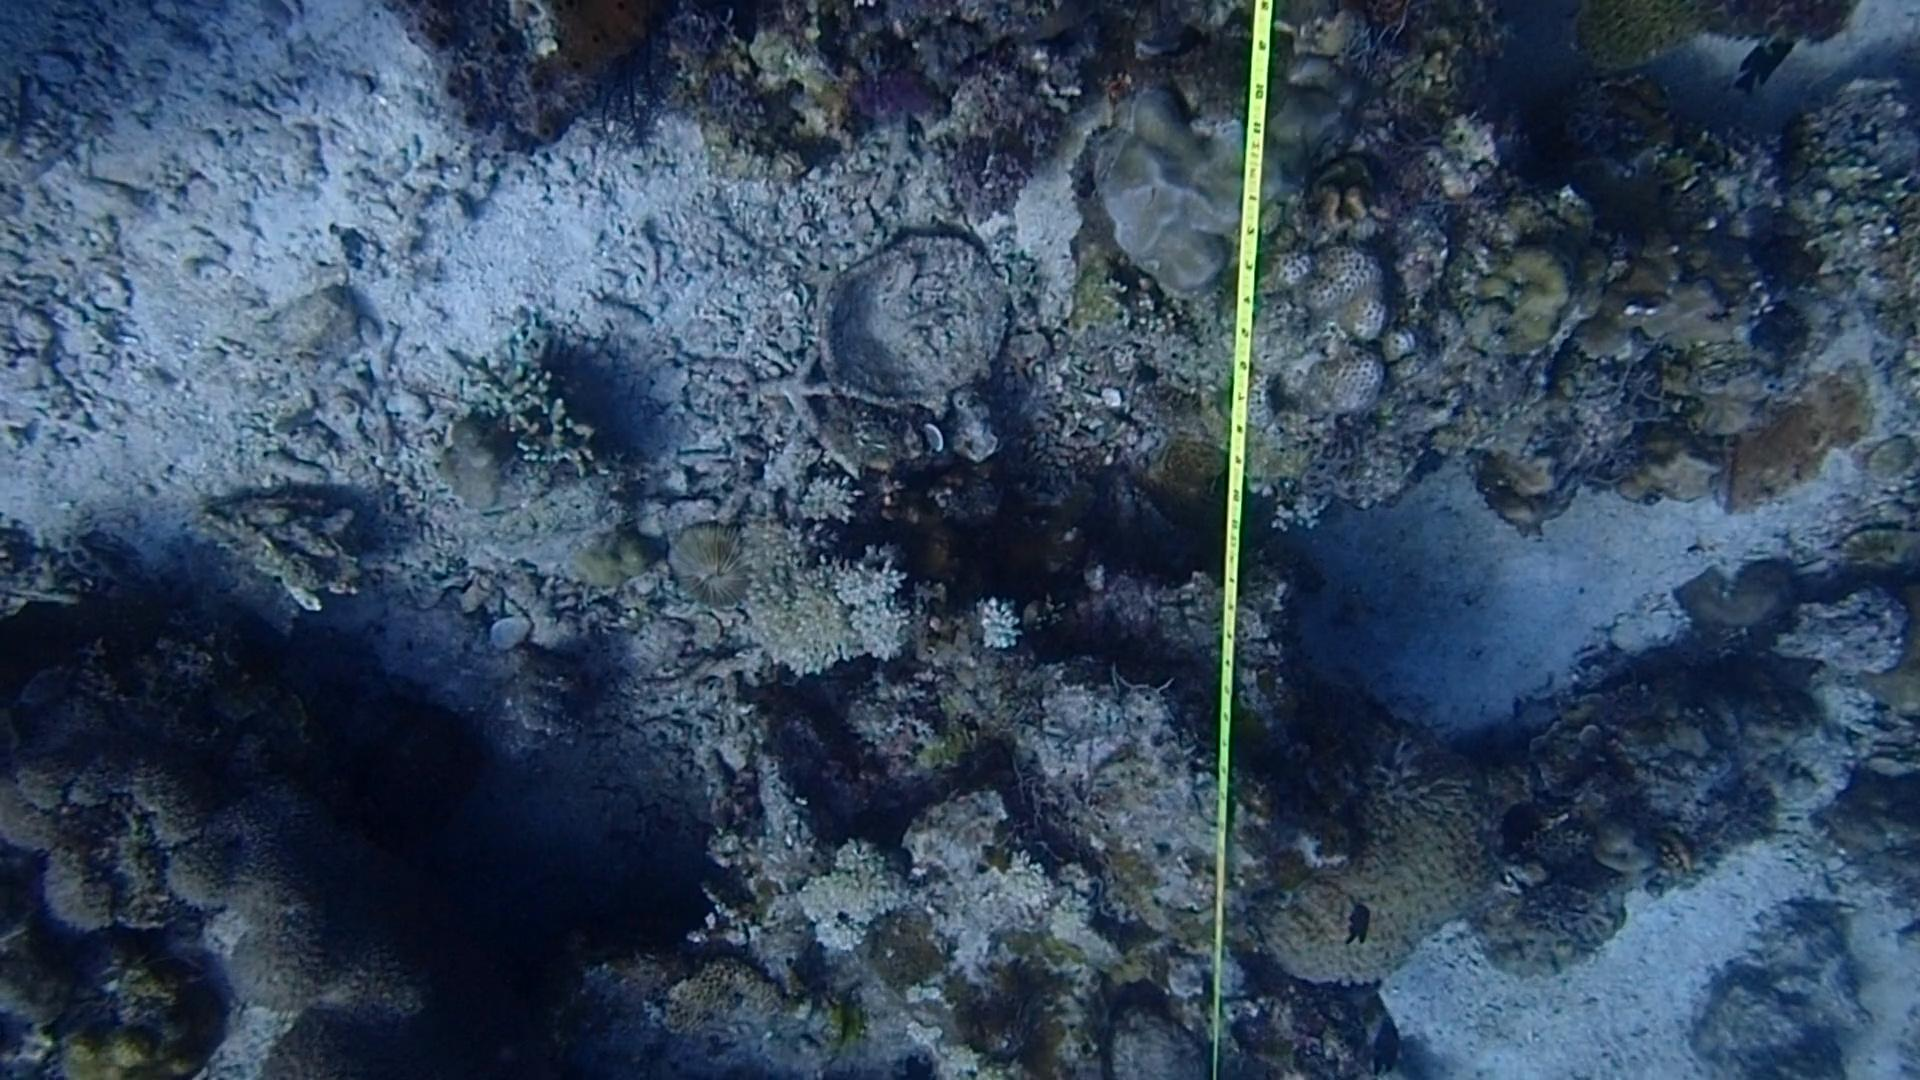Dark Fish: (1484, 787, 1560, 872), (1729, 22, 1803, 105), (1362, 1017, 1410, 1077), (1338, 898, 1381, 957)
